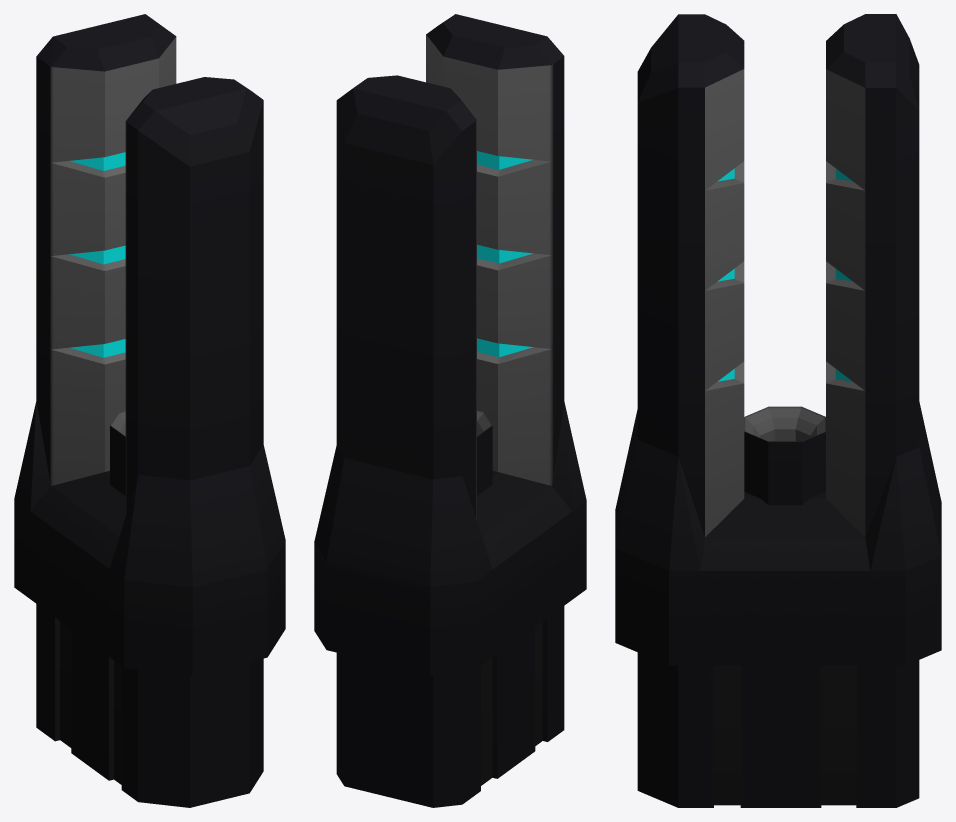
The model's file is sentry_turret_plasma.glb.
The picture shows the model from 3 angles, left to right: view 1: azimuth 30°, elevation 25°; view 2: azimuth 150°, elevation 25°; view 3: azimuth 270°, elevation 25°; orthographic projection. The views are drawn at different scales.
Visible parts, largest first — view 1: MK_3_Plasma_Cannon_Weapon, MK_3_Plasma_Cannon_Base; view 2: MK_3_Plasma_Cannon_Weapon, MK_3_Plasma_Cannon_Base; view 3: MK_3_Plasma_Cannon_Weapon, MK_3_Plasma_Cannon_Base.
Part boxes in pixels (x1=…): MK_3_Plasma_Cannon_Weapon: x1=36, y1=14, x2=263, y2=807; MK_3_Plasma_Cannon_Base: x1=14, y1=401, x2=285, y2=675; MK_3_Plasma_Cannon_Weapon: x1=336, y1=14, x2=564, y2=807; MK_3_Plasma_Cannon_Base: x1=314, y1=402, x2=586, y2=675; MK_3_Plasma_Cannon_Weapon: x1=637, y1=14, x2=919, y2=807; MK_3_Plasma_Cannon_Base: x1=615, y1=402, x2=941, y2=665.
Size of the model in its own units: 0.2704 by 1.1 by 0.4411.
1 material, 1 textured.
